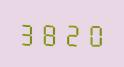eight: (39, 19, 59, 46)
three: (18, 19, 38, 46)
two: (60, 19, 80, 47)
zero: (81, 20, 101, 47)
